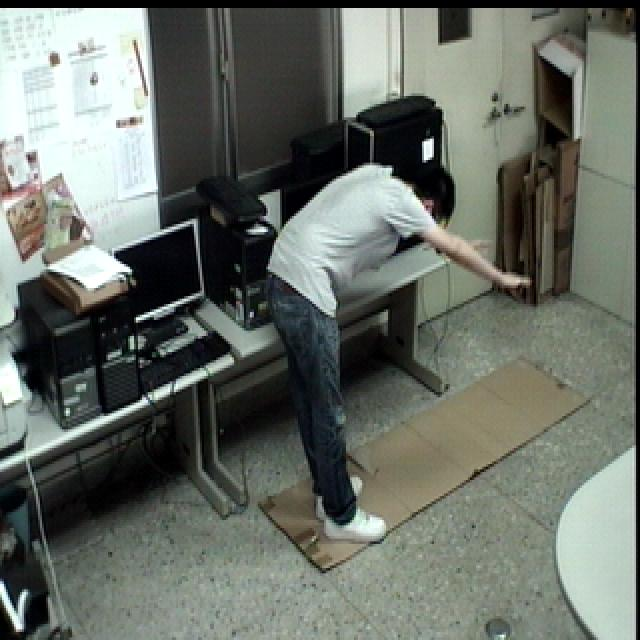bend: (263, 145, 531, 550)
